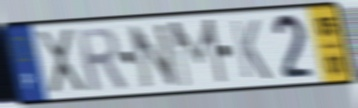2: (271, 9, 321, 85)
K: (229, 17, 274, 81)
M: (167, 16, 230, 91)
N: (125, 20, 182, 91)
R: (72, 25, 130, 95)
X: (33, 26, 90, 98)
